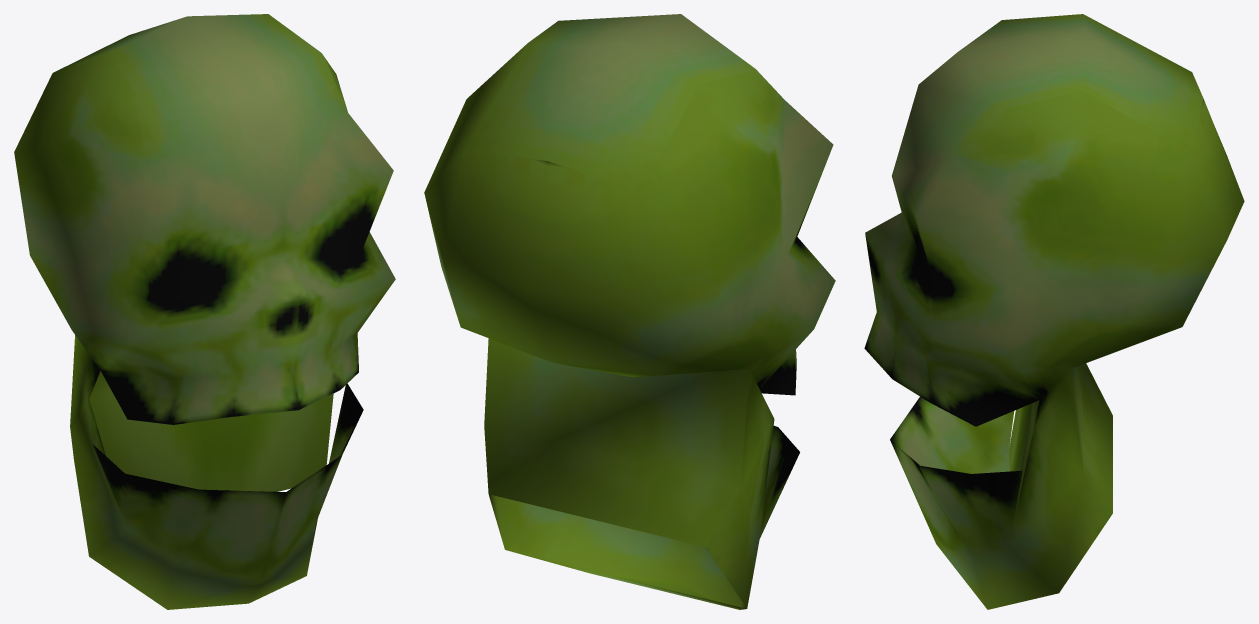
File: skull.fbx
3 renders of one model, left to right at view 1: azimuth 30°, elevation 25°; view 2: azimuth 150°, elevation 25°; view 3: azimuth 270°, elevation 25°, orthographic. The views are drawn at different scales.
Visible parts, largest first — view 1: ghost/spectral; view 2: ghost/spectral; view 3: ghost/spectral.
Boxes of the visible parts, box(x1,y1,x2,y2) form: ghost/spectral: box(14, 14, 395, 609); ghost/spectral: box(424, 14, 835, 609); ghost/spectral: box(864, 14, 1244, 609).
Bounding box in the file's own units: 0.3491 × 0.595 × 0.3787.
